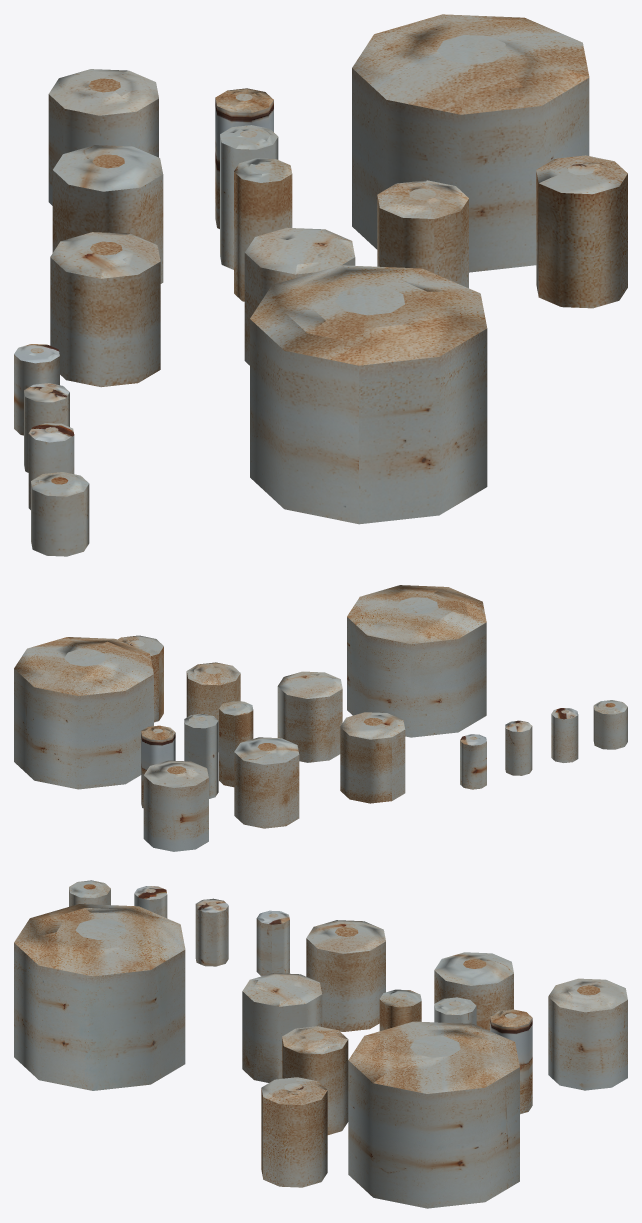
The model's file is youguan_01_03.fbx.
3 renders of one model, top to bottom at view 1: azimuth 30°, elevation 25°; view 2: azimuth 150°, elevation 25°; view 3: azimuth 270°, elevation 25°, orthographic. The views are drawn at different scales.
Visible parts, largest first — view 1: Youguan_01_03; view 2: Youguan_01_03; view 3: Youguan_01_03.
Boxes of the visible parts, bbox=[...] form: Youguan_01_03: bbox=[14, 14, 627, 556]; Youguan_01_03: bbox=[14, 585, 627, 851]; Youguan_01_03: bbox=[14, 880, 627, 1208].
Bounding box in the file's own units: 6159 × 1300 × 5793.
